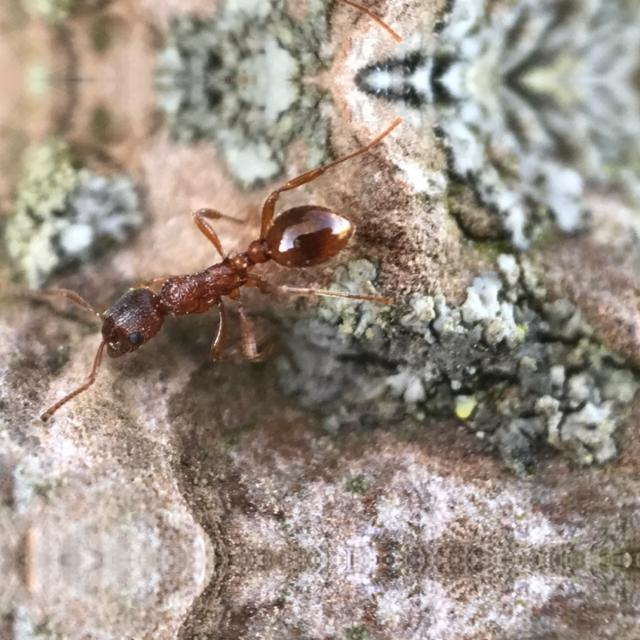Myrmica: (47, 119, 369, 393)
